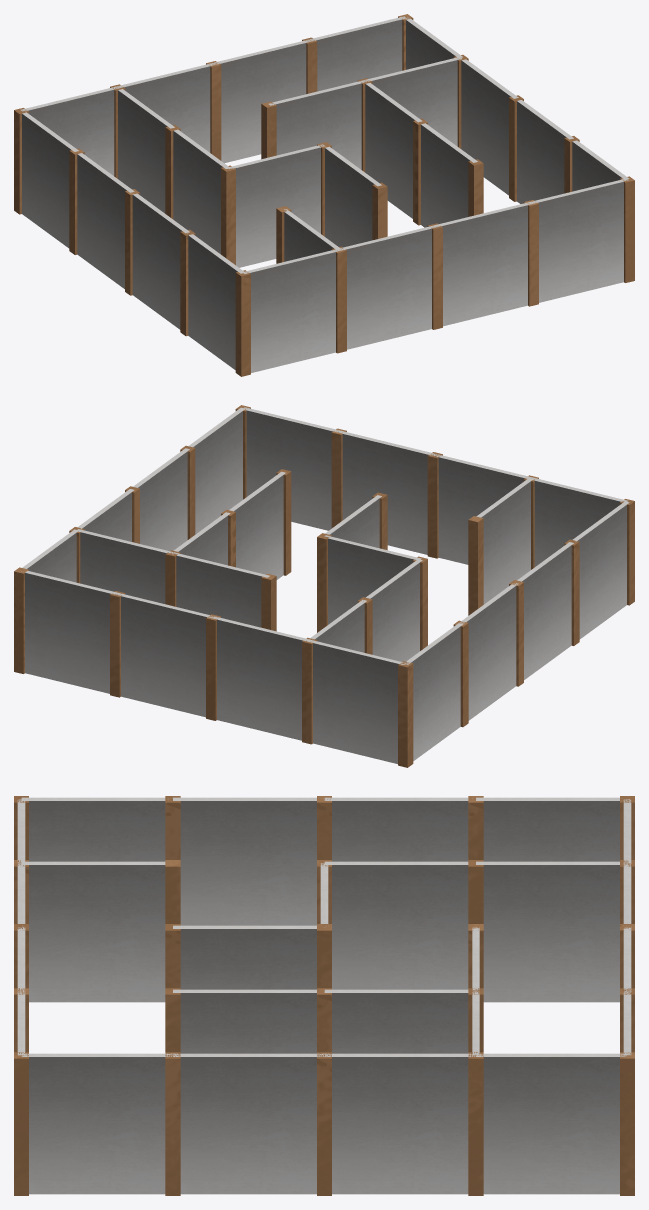
File: Leval Easy 1.fbx
The picture shows the model from 3 angles, top to bottom: view 1: azimuth 30°, elevation 25°; view 2: azimuth 150°, elevation 25°; view 3: azimuth 270°, elevation 25°; orthographic projection. The views are drawn at different scales.
Parts seen in each view (by area): view 1: Cube.024, Cube.021, Cube.043, Cube.003, Cube.015, Cube.031, Cube.028, Cube.005, Cube.002, Cube.008, Cube.011, Cube.052 (+33 smaller); view 2: Cube.007, Cube.031, Cube.013, Cube.036, Cube.024, Cube.043, Cube.011, Cube.008, Cube.002, Cube.005, Cube.021, Cube.028 (+33 smaller); view 3: Cube.048, Cube.045, Cube.052, Cube.049, Cube.022, Cube.018, Cube.012, Cube.005, Cube.002, Cube.011, Cube.037, Cube.008 (+28 smaller).
Boxes of the visible parts, <box> form: Cube.024: <box>434,202,532,326</box>; Cube.021: <box>339,225,435,349</box>; Cube.043: <box>530,179,628,302</box>; Cube.003: <box>244,249,340,372</box>; Cube.015: <box>229,144,325,267</box>; Cube.031: <box>212,39,310,163</box>; Cube.028: <box>268,80,365,169</box>; Cube.005: <box>131,192,189,329</box>; Cube.002: <box>187,233,244,369</box>; Cube.008: <box>22,112,78,248</box>; Cube.011: <box>77,153,134,288</box>; Cube.052: <box>460,59,518,195</box>; Cube.007: <box>213,616,310,740</box>; Cube.031: <box>117,593,214,717</box>; Cube.013: <box>308,640,404,763</box>; Cube.036: <box>21,571,118,693</box>; Cube.024: <box>338,430,436,554</box>; Cube.043: <box>243,407,339,530</box>; Cube.011: <box>459,583,518,720</box>; Cube.008: <box>404,623,462,760</box>; Cube.002: <box>572,501,629,639</box>; Cube.005: <box>517,542,573,679</box>; Cube.021: <box>434,454,532,564</box>; Cube.028: <box>172,552,269,627</box>; Cube.048: <box>173,1053,324,1194</box>; Cube.045: <box>21,1053,172,1194</box>; Cube.052: <box>324,1053,475,1194</box>; Cube.049: <box>476,1053,626,1194</box>; Cube.022: <box>21,861,165,1002</box>; Cube.018: <box>476,861,619,1002</box>; Cube.012: <box>324,861,468,989</box>; Cube.005: <box>173,797,316,925</box>; Cube.002: <box>21,797,168,861</box>; Cube.011: <box>324,797,472,861</box>; Cube.037: <box>324,989,468,1053</box>; Cube.008: <box>476,797,619,861</box>.
Bounding box in the file's own units: 820 × 200 × 820.
